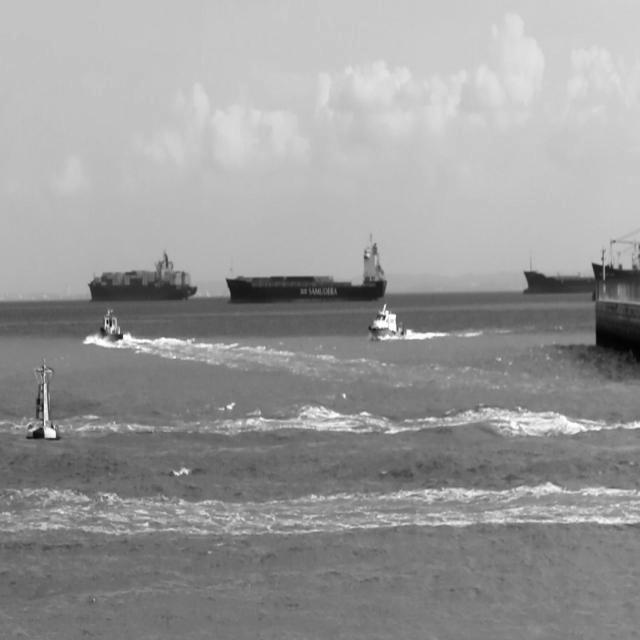buoy: (26, 354, 61, 441)
ship: (225, 230, 388, 304), (89, 246, 198, 302), (523, 254, 595, 294), (368, 303, 408, 340), (98, 304, 125, 344)
